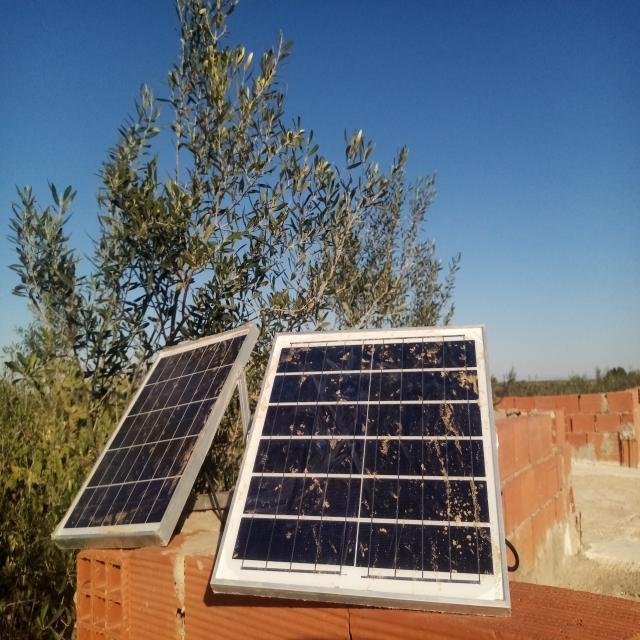faulty: (212, 326, 512, 608), (52, 327, 253, 536)
